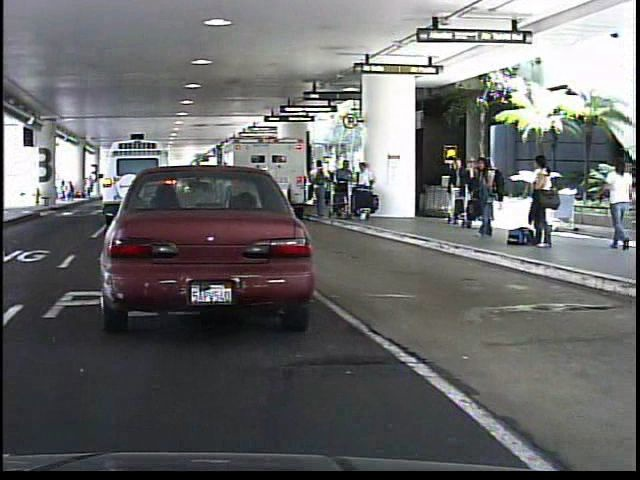person: (597, 154, 637, 250), (525, 149, 554, 251)
